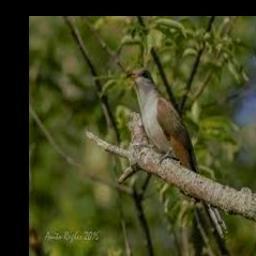Cuckoo: (126, 68, 227, 240)
